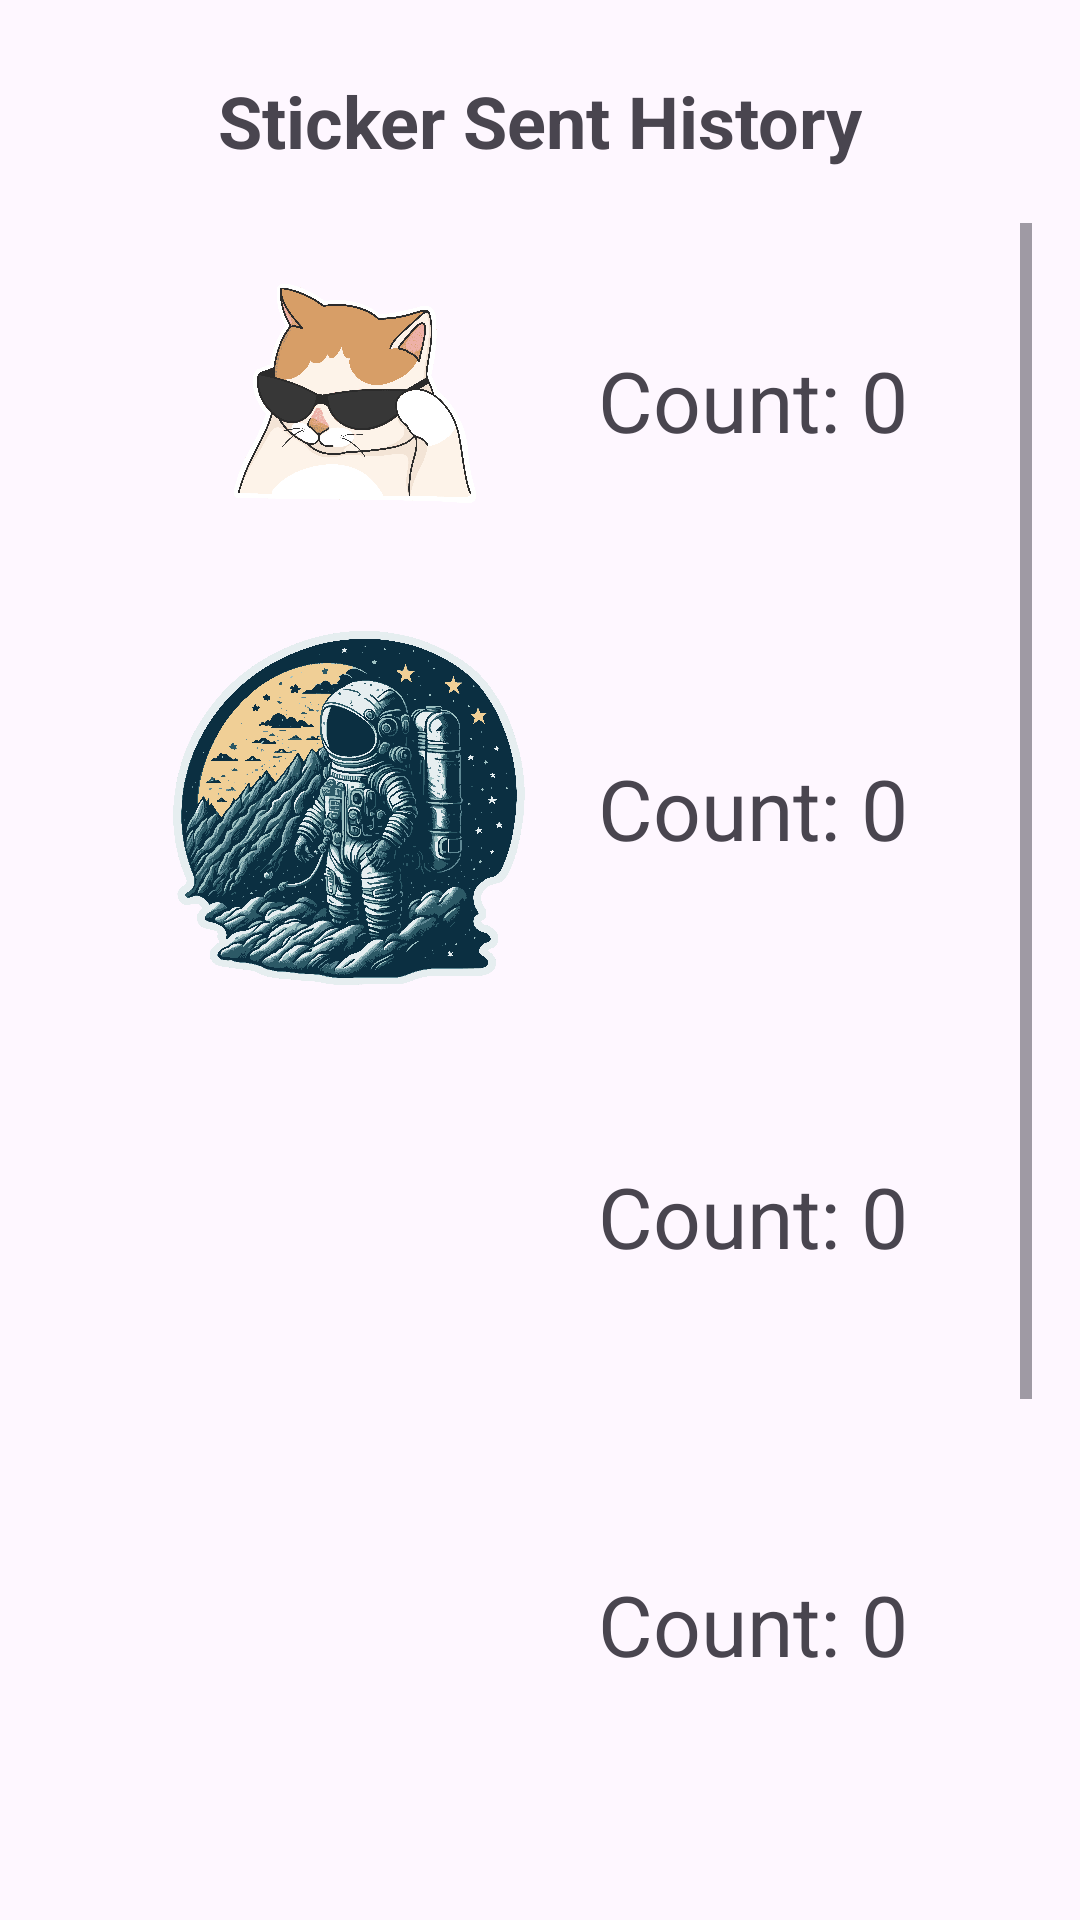

Where icons sit on this 1080*1920 app screen, as (x1, y1, x2, y2):
Cat: (238, 288, 471, 500)
